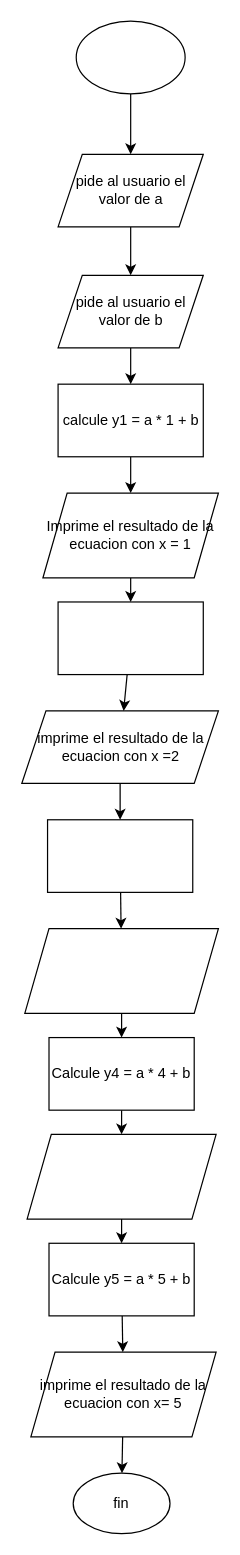
The diagram is 240 pixels wide and 1555 high, and some of its shapes have lost their labels. The centre of each missing label's shape, as x and y in pixels:
"calcule y2 = a * 2 + b" goes at point 130,638.
"calcule y3 = a * 3 + b" goes at point 119,855.
"imprime el resultado de la ecuacion con x =3" goes at point 121,970.
"imprime el resultado de la ecuacion con x= 4" goes at point 121,1176.
"Inicio" goes at point 130,57.
